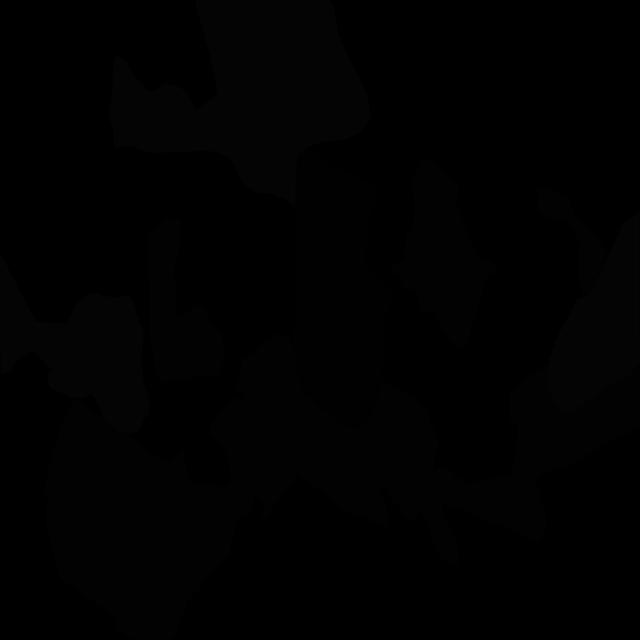cardboard: (234, 333, 439, 528), (43, 399, 204, 640), (441, 393, 640, 541), (185, 397, 298, 602), (391, 158, 498, 351), (509, 363, 640, 472), (147, 218, 225, 383), (537, 187, 609, 295), (422, 466, 468, 565), (166, 448, 188, 479)
rigid_plastic: (292, 148, 392, 427)
soft_plastic: (108, 0, 371, 208), (0, 252, 150, 433), (547, 207, 640, 412)
